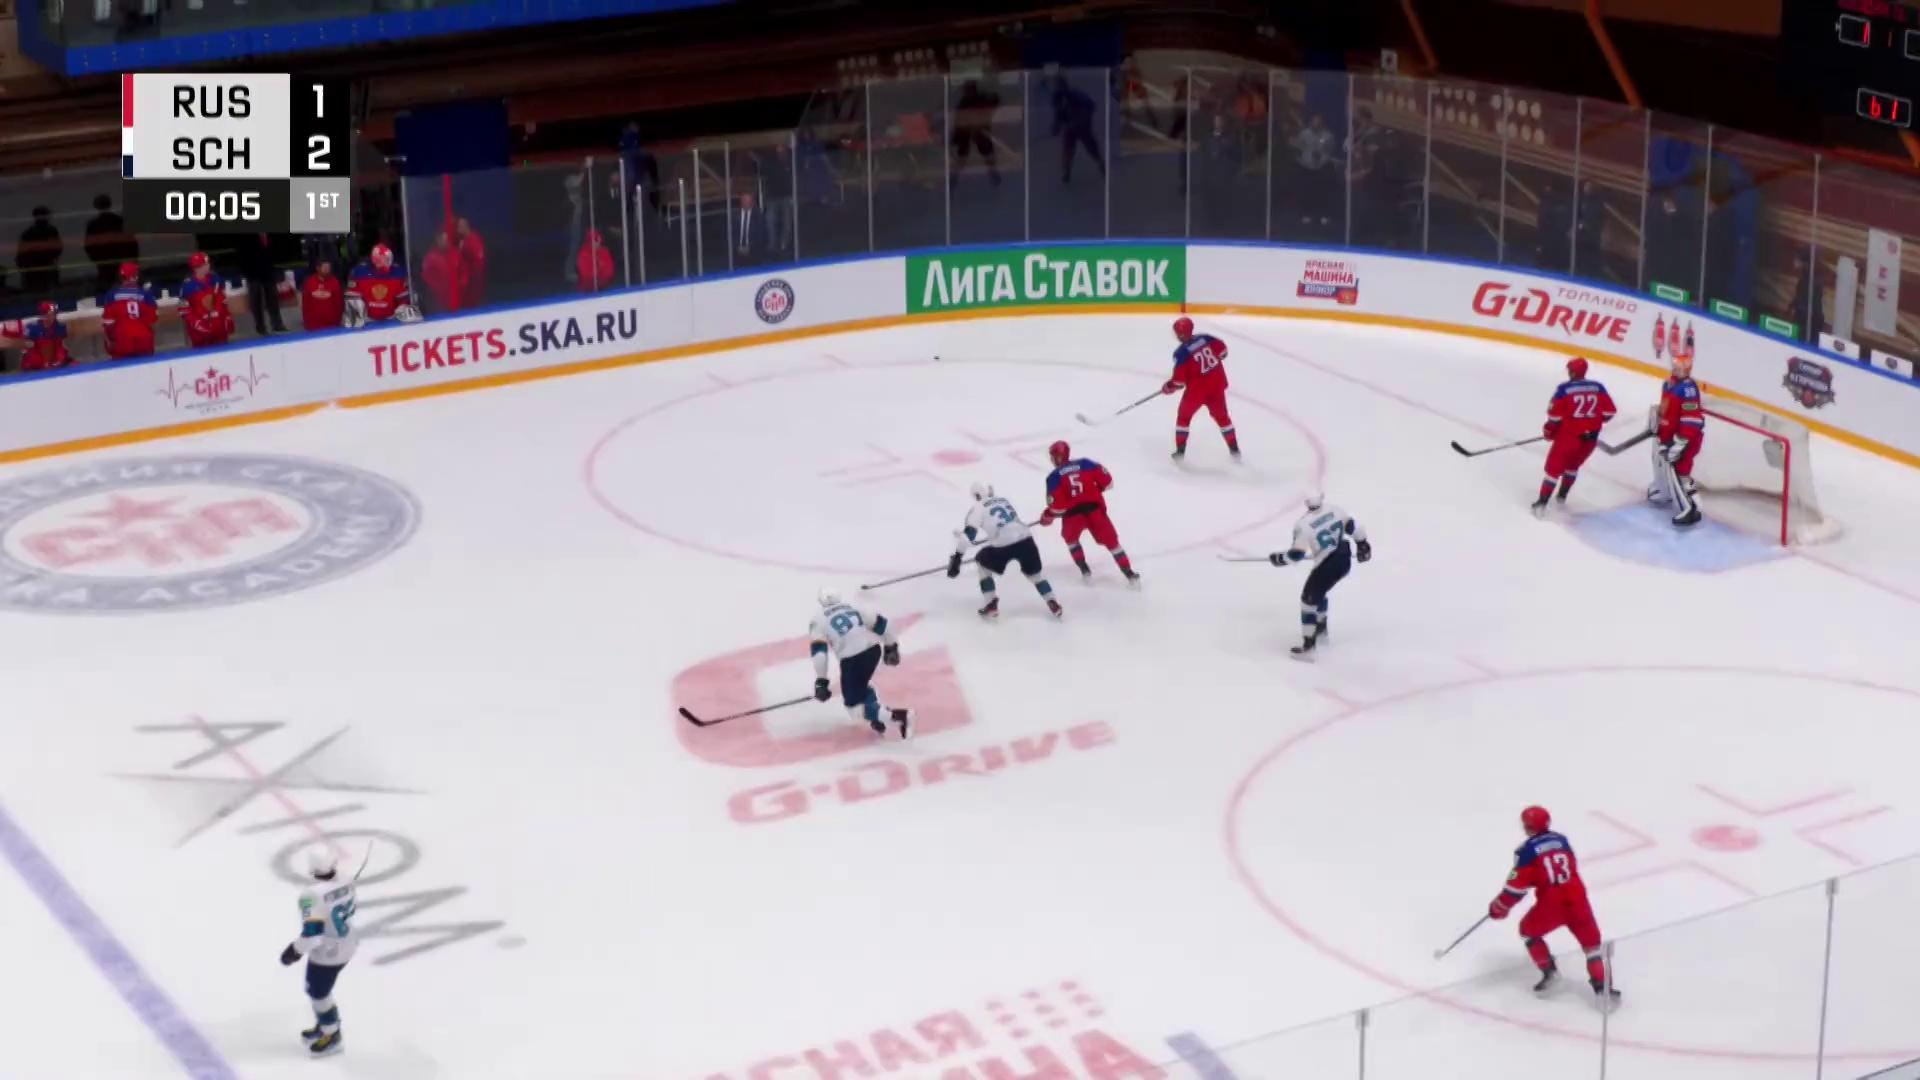ball: (932, 356, 940, 361)
